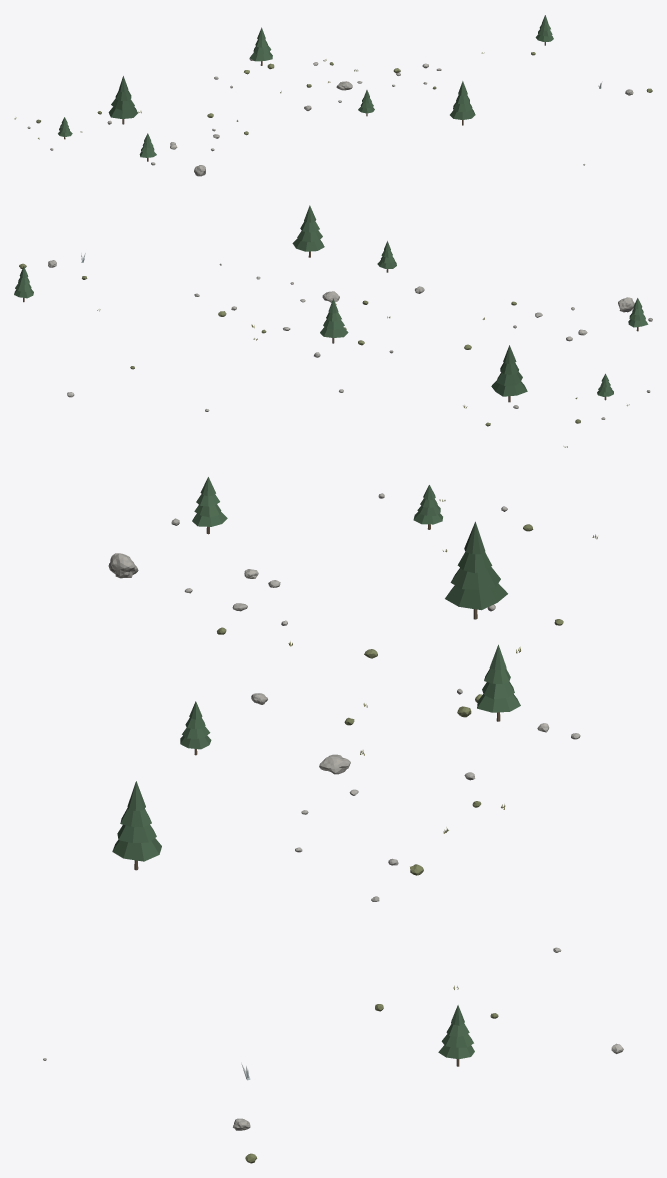
The model's file is coast_land_scatter_c13_20.glb.
3 views of the same model, one above another, from view 1: azimuth 30°, elevation 25°; view 2: azimuth 150°, elevation 25°; view 3: azimuth 270°, elevation 25° (orthographic). The views are drawn at different scales.
Visible parts, largest first — view 1: coast_land_scatter_c13_20; view 2: coast_land_scatter_c13_20; view 3: coast_land_scatter_c13_20.
Part boxes in pixels (x1,y1,x2,y2): coast_land_scatter_c13_20: (14,15,652,176); coast_land_scatter_c13_20: (14,205,652,447); coast_land_scatter_c13_20: (43,477,623,1163).
Bounding box in the file's own units: 208 × 38.36 × 91.97.
